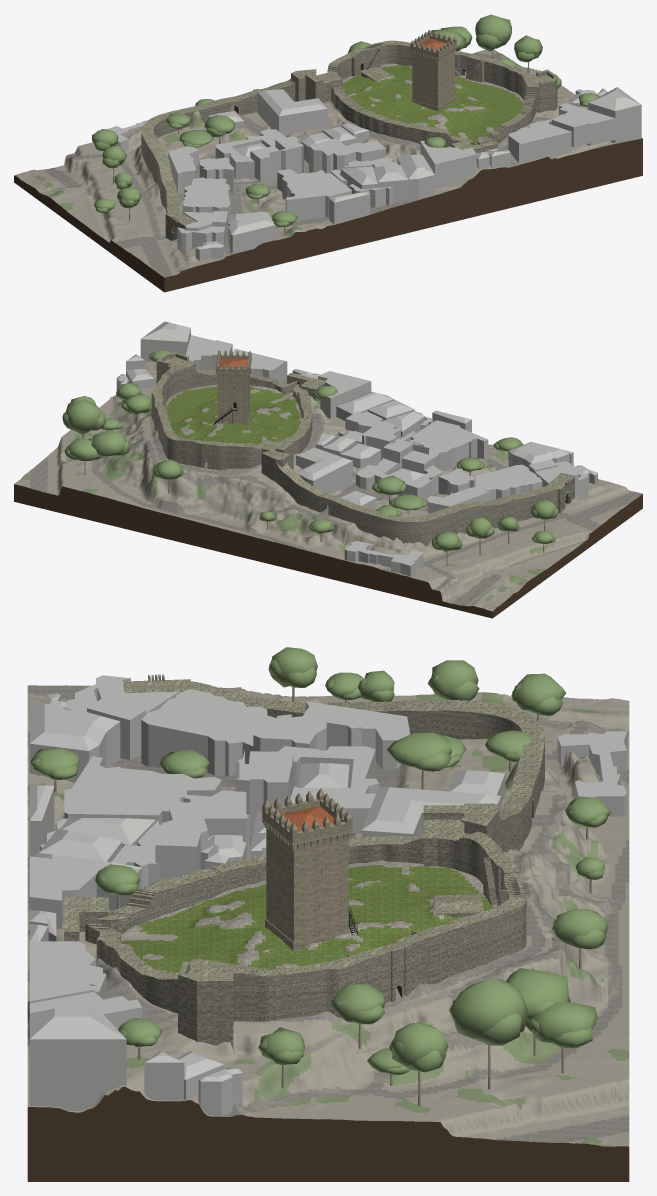
Rendered from melgaco.glb.
The picture shows the model from 3 angles, top to bottom: view 1: azimuth 30°, elevation 25°; view 2: azimuth 150°, elevation 25°; view 3: azimuth 270°, elevation 25°; orthographic projection. The views are drawn at different scales.
Parts seen in each view (by area): view 1: envolvente, Terreno, base, arvores, cerca, muralha, torre, torres_cerca, coroamento, escadas, porta_baixo; view 2: Terreno, envolvente, base, arvores, muralha, cerca, torre, torres_cerca, coroamento, porta_baixo, barbaca; view 3: Terreno, envolvente, base, arvores, cerca, muralha, torre, torres_cerca, coroamento, barbaca, cisterna, postigos (+1 smaller).
Boxes of the visible parts, box(x1,y1,x2,y2) form: envolvente: box(97, 87, 641, 260); Terreno: box(14, 49, 642, 277); base: box(14, 138, 642, 292); arvores: box(92, 14, 598, 232); cerca: box(327, 40, 536, 147); muralha: box(141, 79, 295, 213); torre: box(411, 38, 455, 110); torres_cerca: box(291, 69, 557, 112); coroamento: box(410, 29, 456, 61); escadas: box(351, 48, 484, 82); porta_baixo: box(165, 211, 196, 242); Terreno: box(14, 361, 642, 611); envolvente: box(116, 321, 597, 576); base: box(14, 397, 642, 618); arvores: box(62, 349, 558, 565); muralha: box(276, 463, 557, 546); cerca: box(151, 366, 312, 469); torre: box(217, 358, 250, 424); torres_cerca: box(156, 352, 293, 482); coroamento: box(216, 350, 251, 377); porta_baixo: box(548, 474, 574, 512); barbaca: box(287, 373, 324, 400); Terreno: box(27, 685, 629, 1146); envolvente: box(29, 675, 627, 1115); base: box(27, 687, 629, 1181); arvores: box(30, 647, 610, 1105); cerca: box(85, 830, 526, 1021); muralha: box(182, 681, 544, 852); torre: box(265, 806, 349, 950); torres_cerca: box(178, 803, 499, 1049); coroamento: box(262, 788, 352, 850); barbaca: box(64, 896, 108, 941); cisterna: box(433, 894, 483, 917); postigos: box(383, 864, 519, 1002).
Bounding box in the file's own units: 158 × 37.92 × 86.
Materials: 18 (8 with a texture image).
